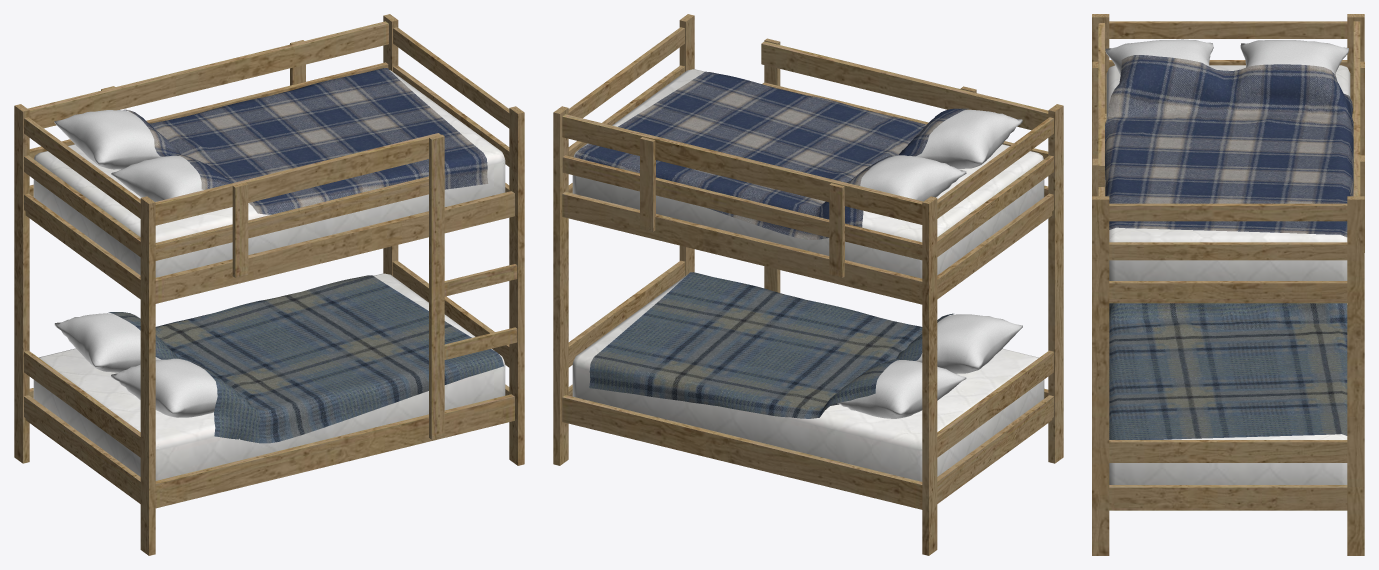
3 views of the same model, side by side, from view 1: azimuth 30°, elevation 25°; view 2: azimuth 150°, elevation 25°; view 3: azimuth 270°, elevation 25° (orthographic).
Visible parts, largest first — view 1: Bed_Frame, Blanket_Bottom, Blanket_Top, Matress_Bottom, Matress_Top, Pillows_Bottom, Pillows_Top; view 2: Bed_Frame, Blanket_Bottom, Blanket_Top, Matress_Bottom, Matress_Top, Pillows_Bottom, Pillows_Top; view 3: Bed_Frame, Blanket_Top, Blanket_Bottom, Matress_Top, Matress_Bottom, Pillows_Top.
Boxes of the visible parts, box(x1,y1,x2,y2) form: Bed_Frame: box(14, 14, 524, 555); Blanket_Bottom: box(108, 275, 503, 443); Blanket_Top: box(123, 68, 488, 214); Matress_Bottom: box(33, 273, 505, 480); Matress_Top: box(33, 70, 505, 277); Pillows_Bottom: box(54, 313, 217, 417); Pillows_Top: box(54, 110, 203, 201); Bed_Frame: box(553, 14, 1063, 555); Blanket_Bottom: box(589, 272, 953, 418); Blanket_Top: box(574, 71, 968, 239); Matress_Bottom: box(572, 274, 1044, 481); Matress_Top: box(572, 69, 1044, 278); Pillows_Bottom: box(837, 314, 1022, 418); Pillows_Top: box(860, 109, 1022, 201); Bed_Frame: box(1092, 14, 1364, 555); Blanket_Top: box(1105, 55, 1353, 237); Blanket_Bottom: box(1109, 303, 1347, 439); Matress_Top: box(1106, 65, 1350, 280); Matress_Bottom: box(1109, 303, 1347, 484); Pillows_Top: box(1105, 39, 1348, 74).
Bounding box in the file's own units: 17.2 × 15.4 × 10.69.
Materials: 7 (7 with a texture image).
